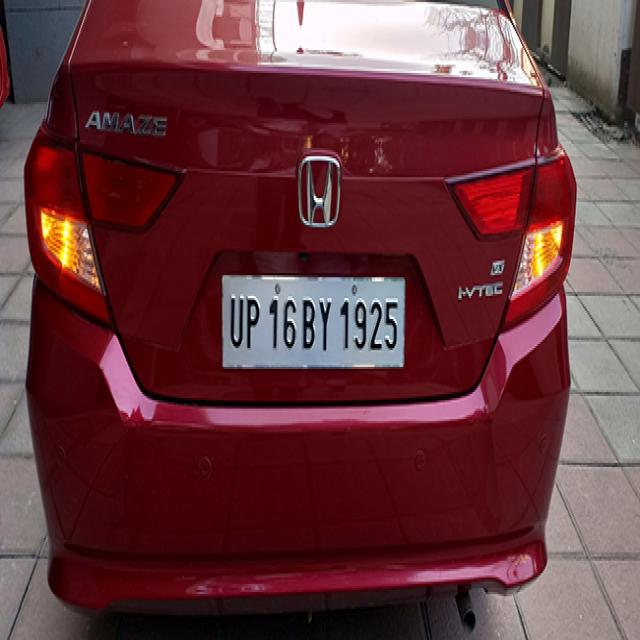Number-Plate: (223, 279, 408, 363)
